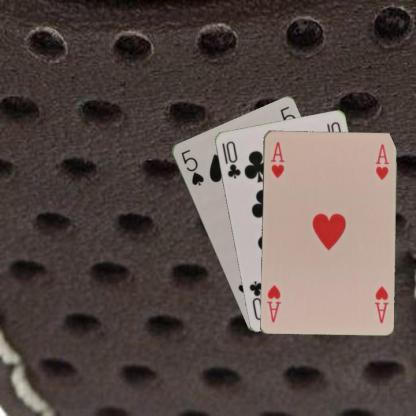10c: (223, 138, 242, 180)
5s: (178, 146, 205, 187)
Ah: (372, 283, 390, 324), (268, 139, 286, 179)
